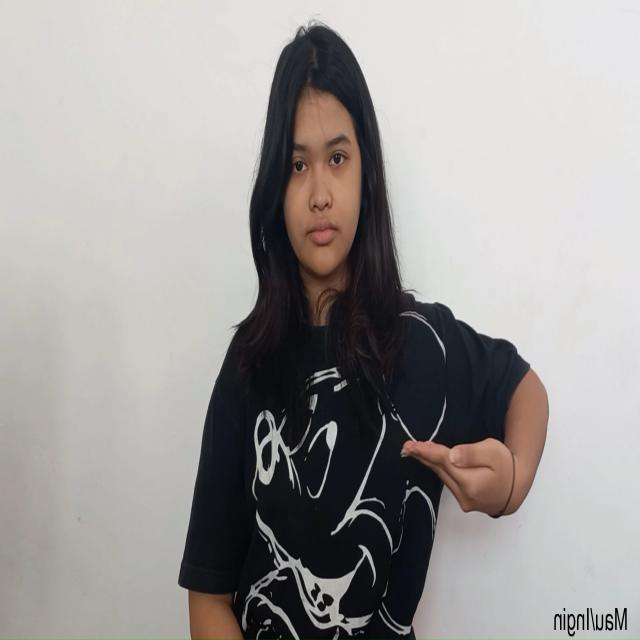Mau-Ingin -BISINDO-: (398, 432, 522, 524)
